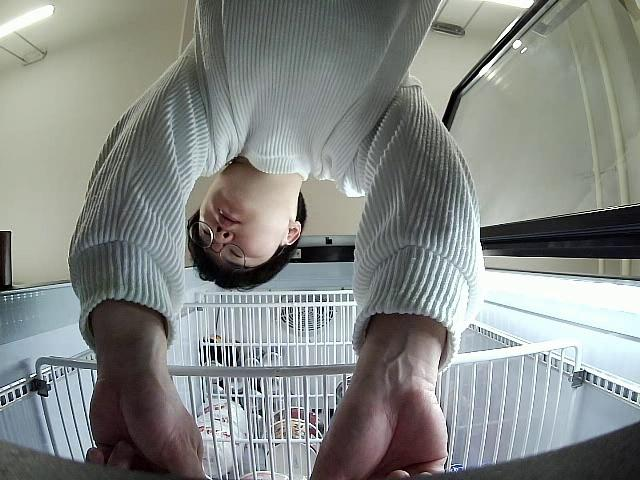00_hand: (86, 381, 204, 480)
